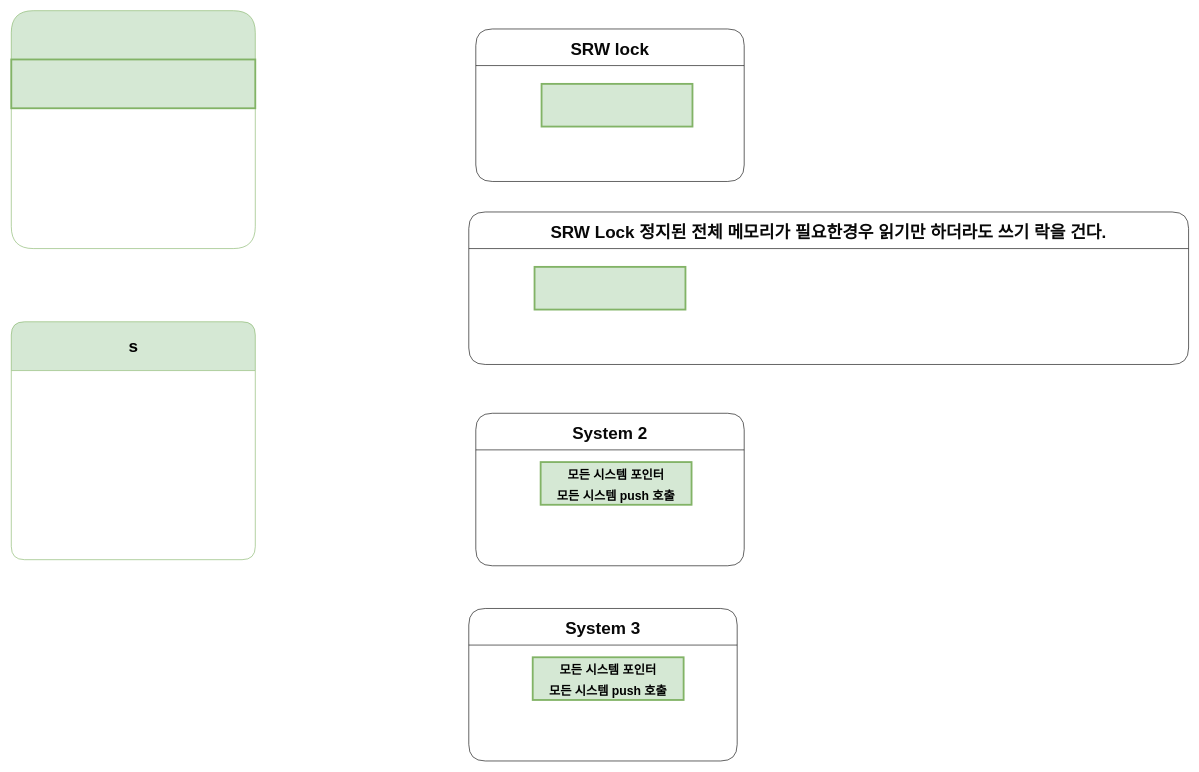
This 1199x772 diagram has some shape labels left out. Here are the shapes that lost their labels. From the top down, the centre of each, then its label:
pixel 616 105: 글로벌 작업큐
pixel 609 288: 공유 메모리
